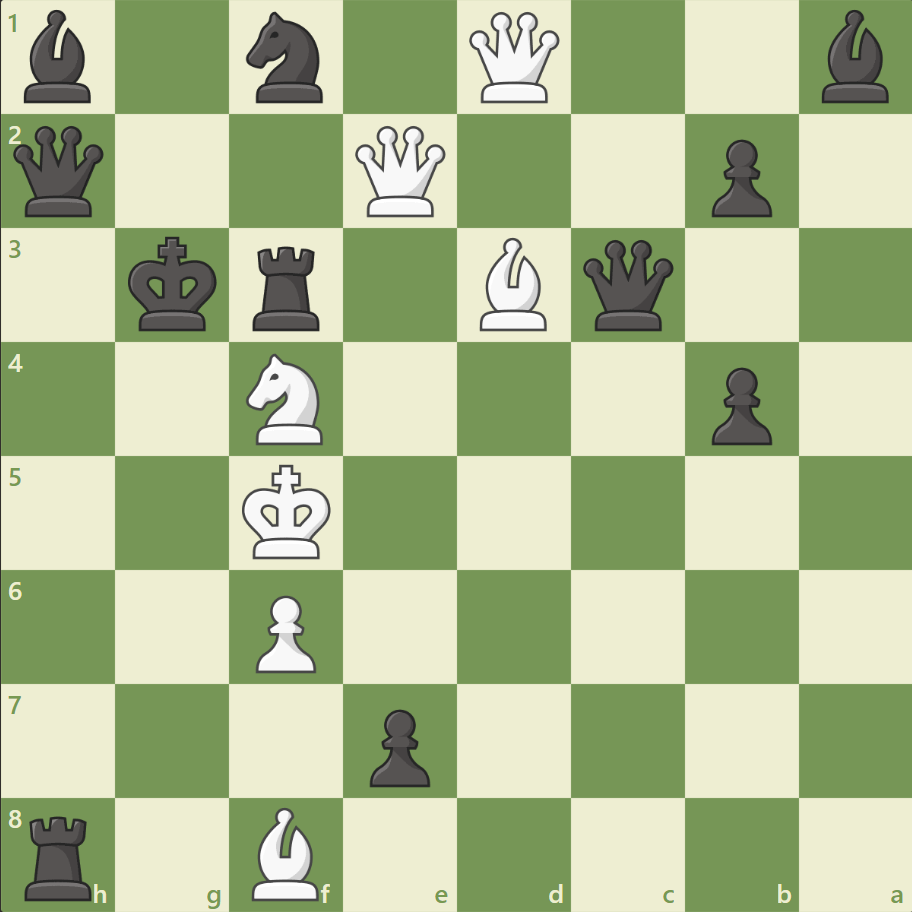B: (244, 801, 328, 904), (471, 233, 555, 336)
K: (238, 458, 338, 566)
N: (238, 348, 335, 450)
P: (247, 586, 322, 677)
Q: (351, 122, 450, 222), (464, 9, 563, 108)
b: (812, 6, 896, 109), (17, 6, 101, 109)
k: (124, 231, 224, 339)
n: (238, 7, 335, 110)
p: (701, 359, 776, 450), (701, 132, 776, 223), (361, 700, 435, 791)
q: (10, 122, 109, 222), (578, 236, 677, 335)
r: (19, 806, 102, 904), (246, 239, 329, 336)
